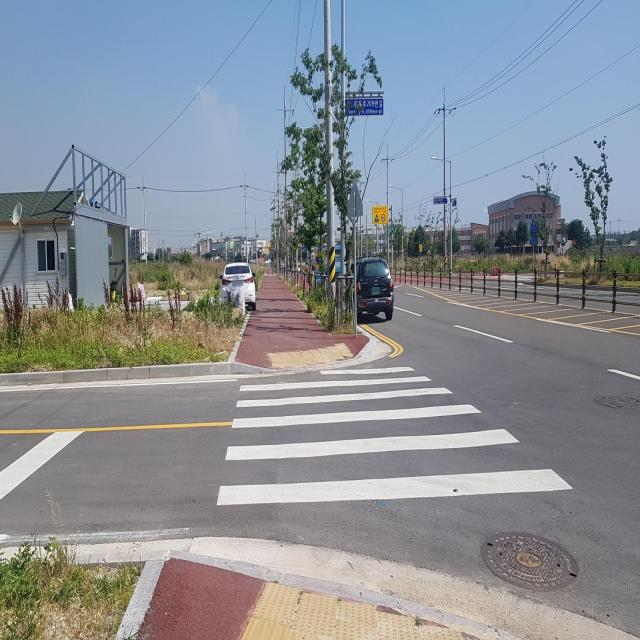횡단보도: (216, 364, 574, 506)
